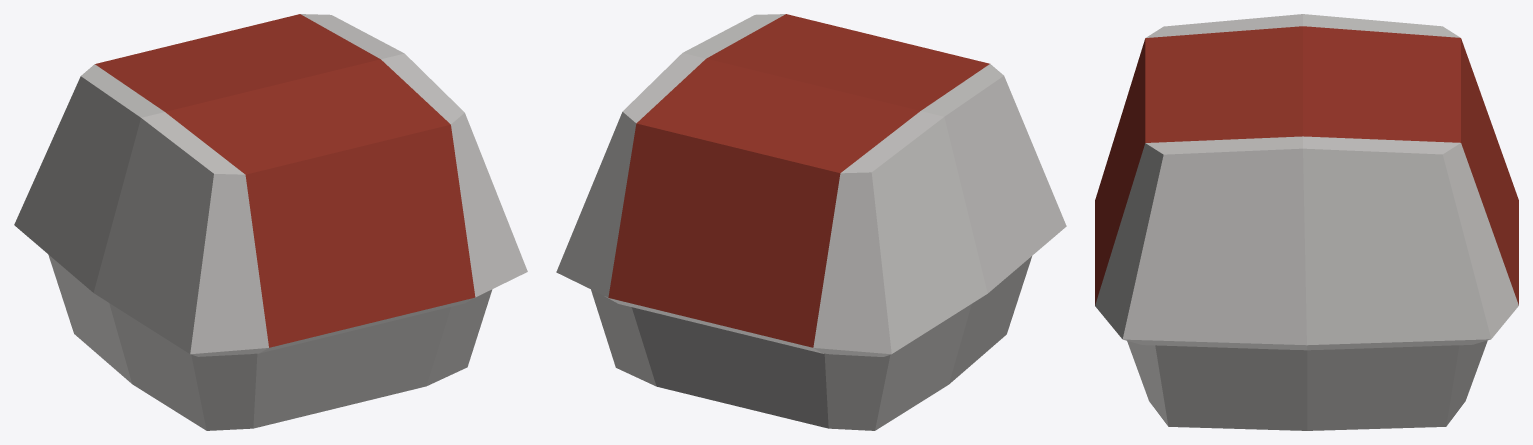
The model's file is burger.glb.
The picture shows the model from 3 angles, left to right: view 1: azimuth 30°, elevation 25°; view 2: azimuth 150°, elevation 25°; view 3: azimuth 270°, elevation 25°; orthographic projection. The views are drawn at different scales.
Parts seen in each view (by area): view 1: SM_Prop_Food_Burger_Box_01_Lid, SM_Prop_Food_Burger_Box_01; view 2: SM_Prop_Food_Burger_Box_01_Lid, SM_Prop_Food_Burger_Box_01; view 3: SM_Prop_Food_Burger_Box_01_Lid, SM_Prop_Food_Burger_Box_01.
Boxes of the visible parts, x1,y1,x2,y2 form: SM_Prop_Food_Burger_Box_01_Lid: (14, 14, 527, 356); SM_Prop_Food_Burger_Box_01: (48, 254, 492, 430); SM_Prop_Food_Burger_Box_01_Lid: (556, 14, 1066, 356); SM_Prop_Food_Burger_Box_01: (591, 256, 1031, 430); SM_Prop_Food_Burger_Box_01_Lid: (1095, 14, 1518, 350); SM_Prop_Food_Burger_Box_01: (1127, 340, 1487, 430).
Size of the model in its own units: 0.2637 by 0.1892 by 0.2606.
1 material, 1 textured.
